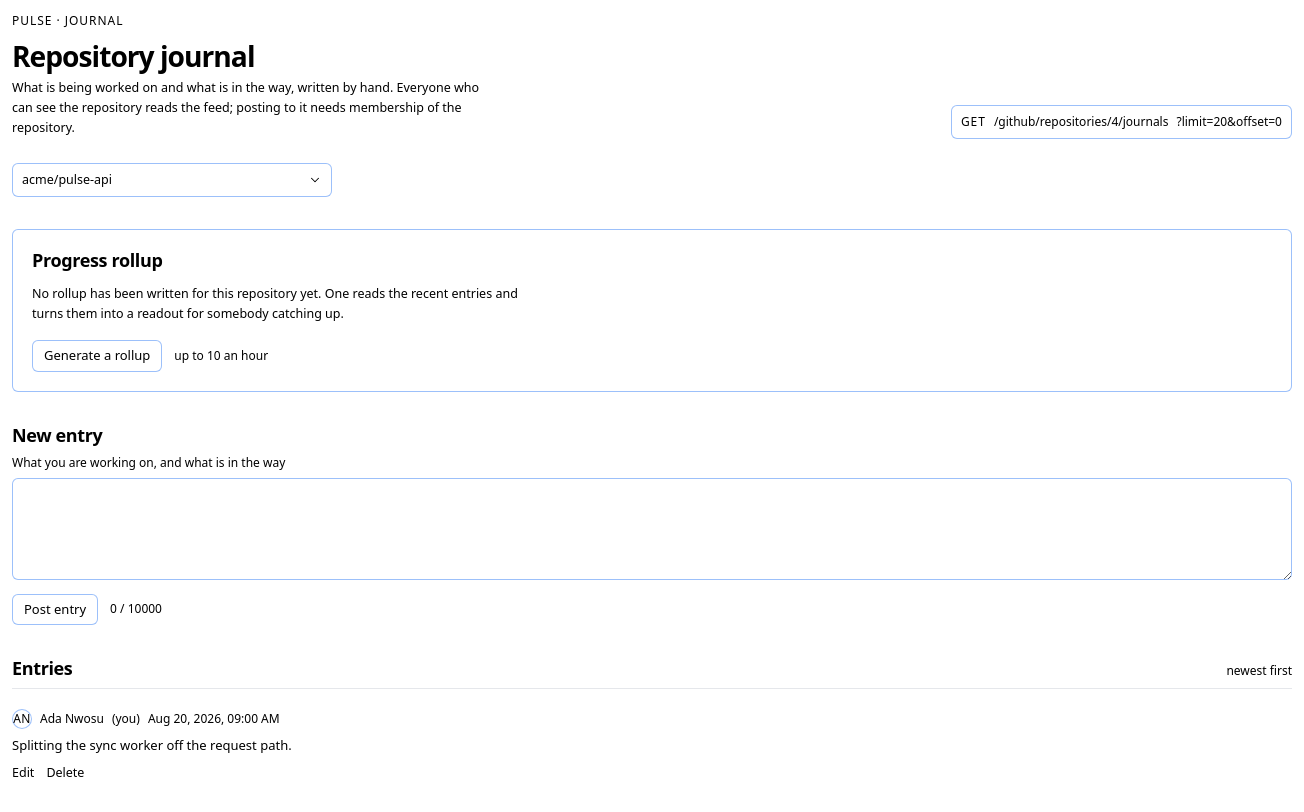
Test case: /journal · the composer › keeps every word of a refused entry and says why it was refused
Type "Blocked on the GitHub token — three days of work in this box." into the text box with test id "composer". click: (652, 529)
box: [12, 478, 1292, 580]
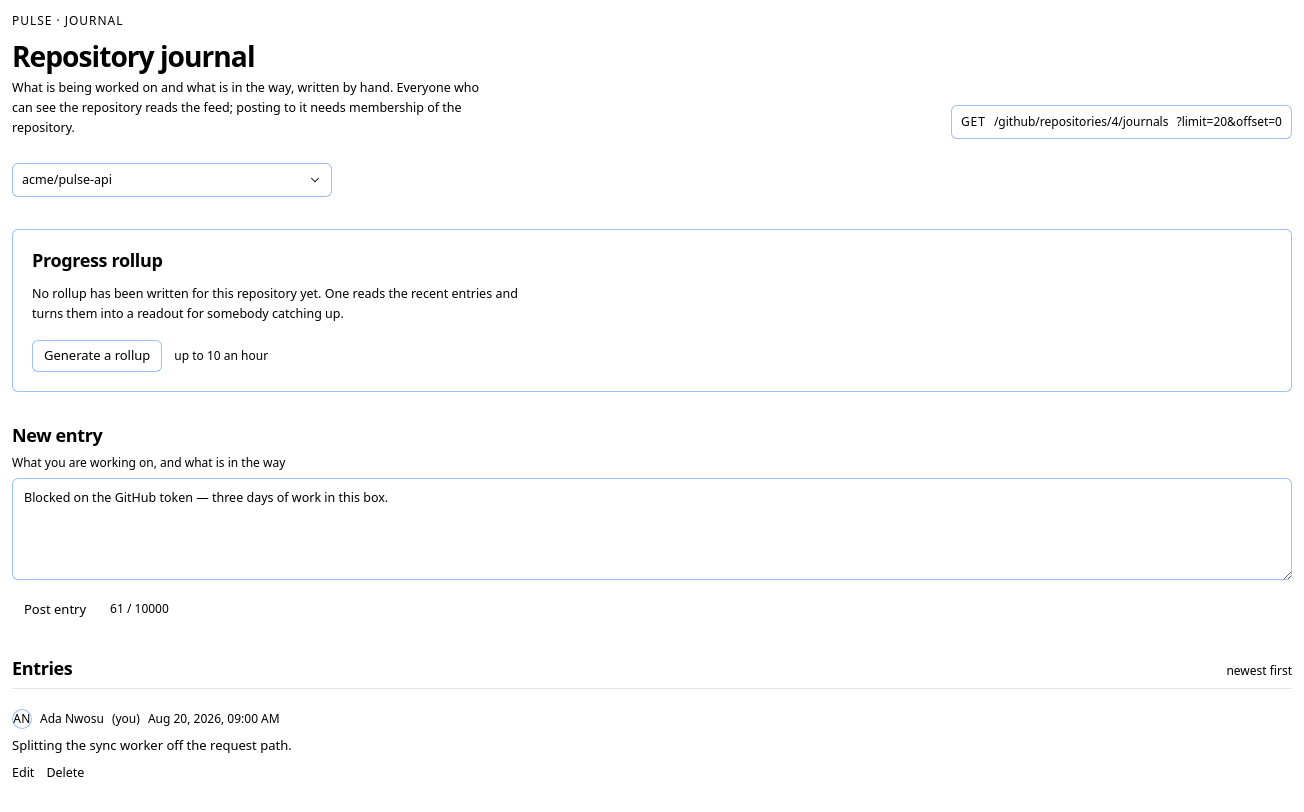
Click the button with test id "composer-post". click: (55, 609)
box: [12, 594, 98, 625]
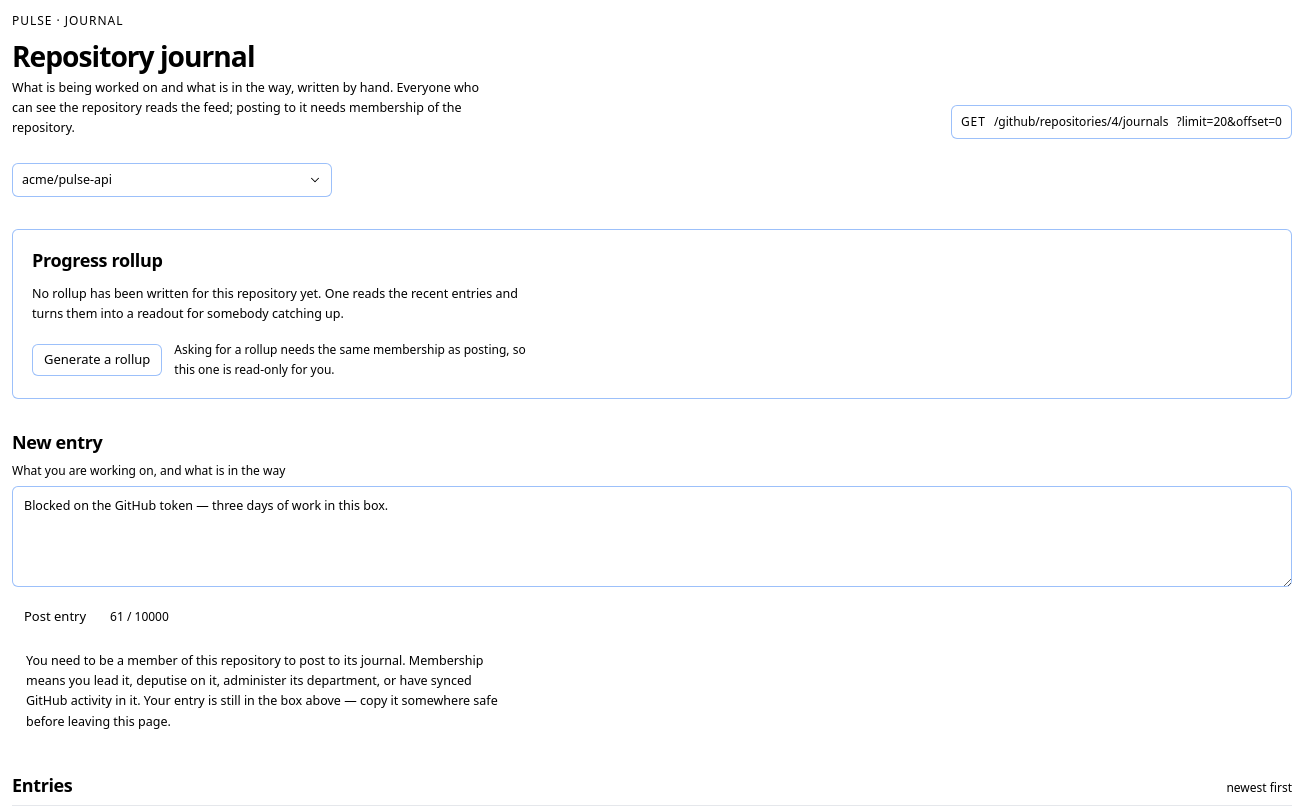
Check: the message with test id "composer-error" shows "member of this repository", box [26, 652, 484, 709]
Check: the message with test id "composer-error" shows "still in the box above", box [26, 692, 498, 730]
